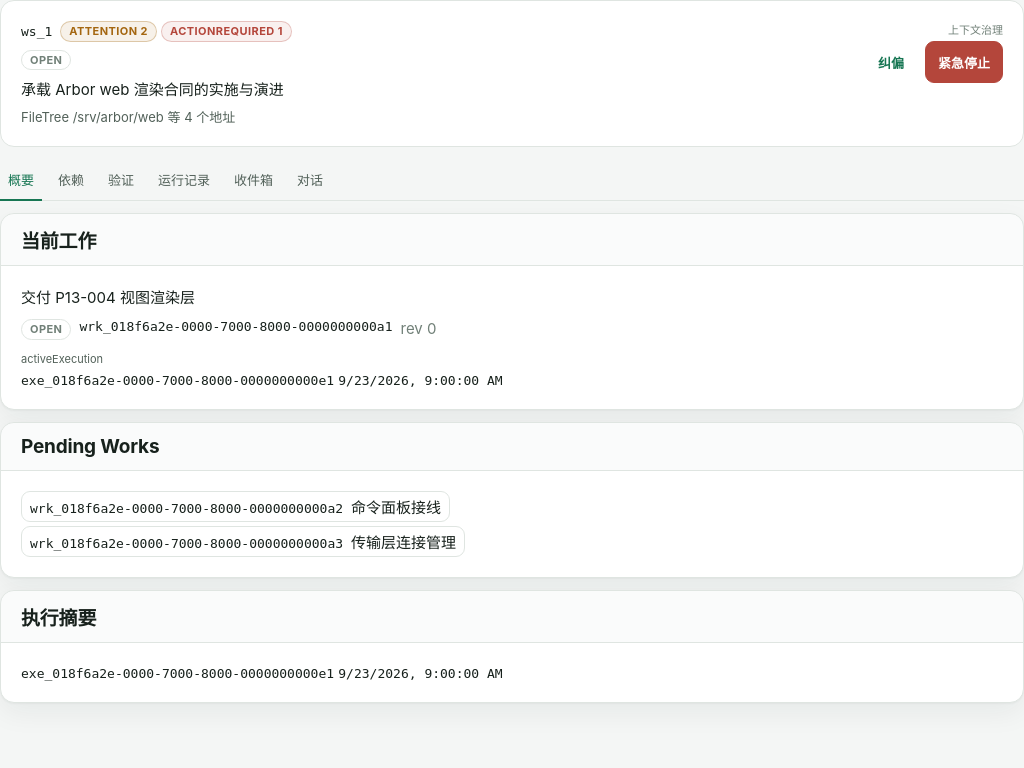
Scenario: W-05 Workspace page › 纠偏表单使用 workspace-detail 提供的 exact current-work revision
This screenshot has width=1024, height=768.
Expected: the text "承载 Arbor web 渲染合同的实施与演进" is shown, [21, 80, 284, 99]
Click the button "纠偏" at {"x": 891, "y": 62}, box [865, 41, 917, 83]
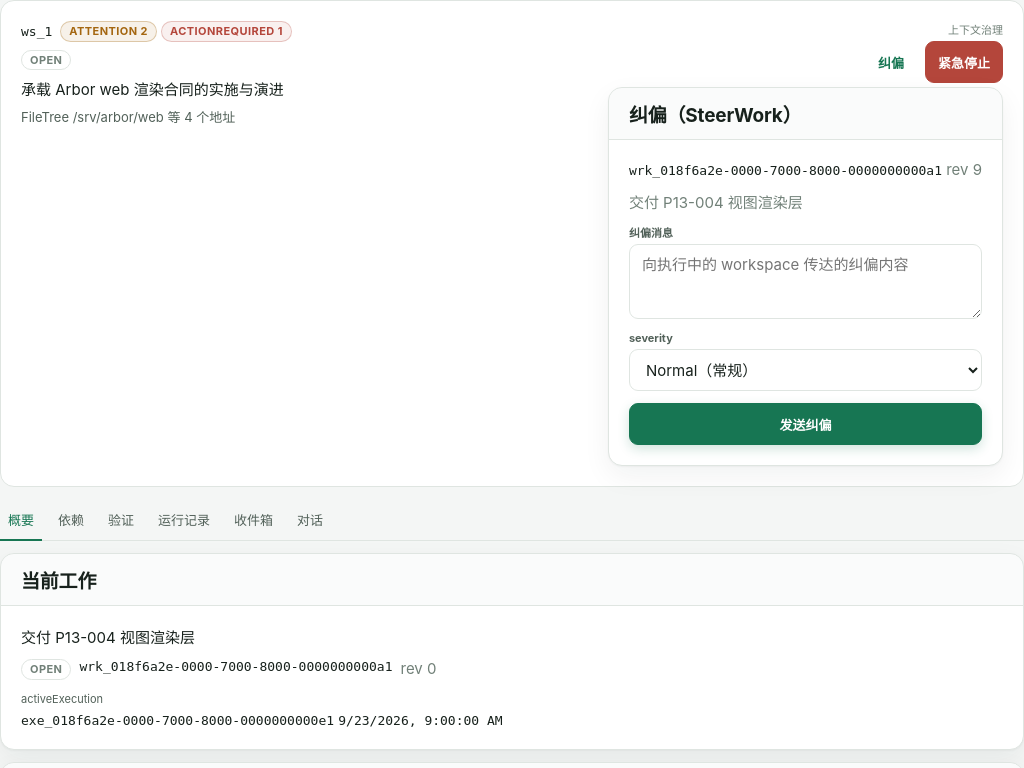
Result: the text "rev 9" is shown at [946, 160, 982, 179]
